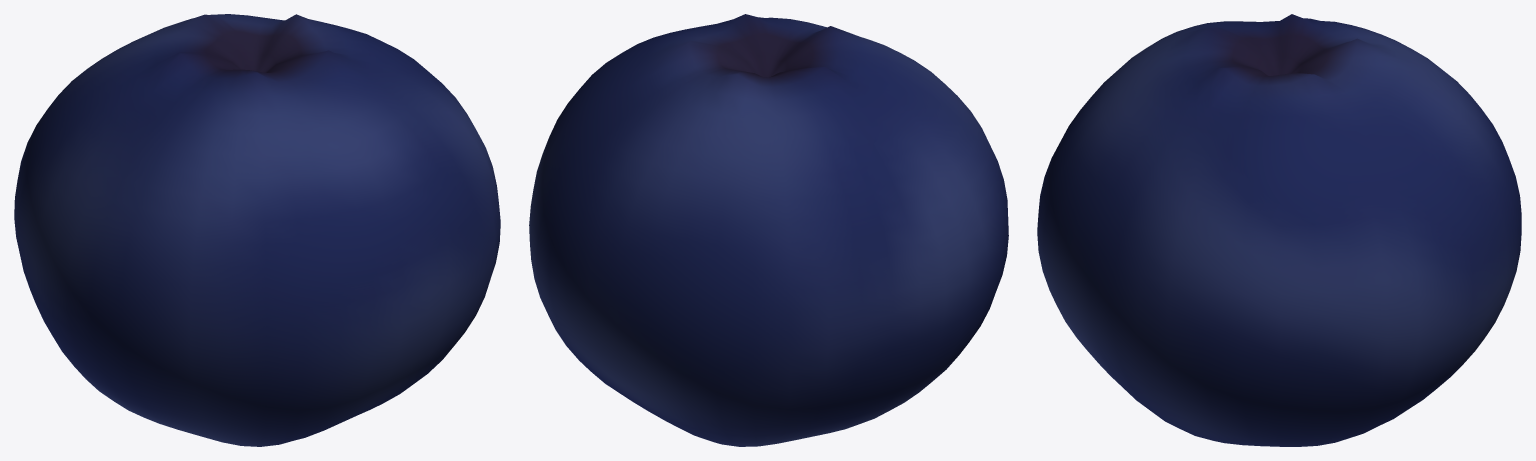
File: blueberry.glb
3 views of the same model, side by side, from view 1: azimuth 30°, elevation 25°; view 2: azimuth 150°, elevation 25°; view 3: azimuth 270°, elevation 25° (orthographic).
Parts seen in each view (by area): view 1: Blueberry_Body; view 2: Blueberry_Body; view 3: Blueberry_Body.
Boxes of the visible parts, bbox=[...] form: Blueberry_Body: bbox=[14, 14, 500, 446]; Blueberry_Body: bbox=[529, 14, 1008, 446]; Blueberry_Body: bbox=[1037, 14, 1521, 446].
Bounding box in the file's own units: 0.0661 × 0.0563 × 0.066.
